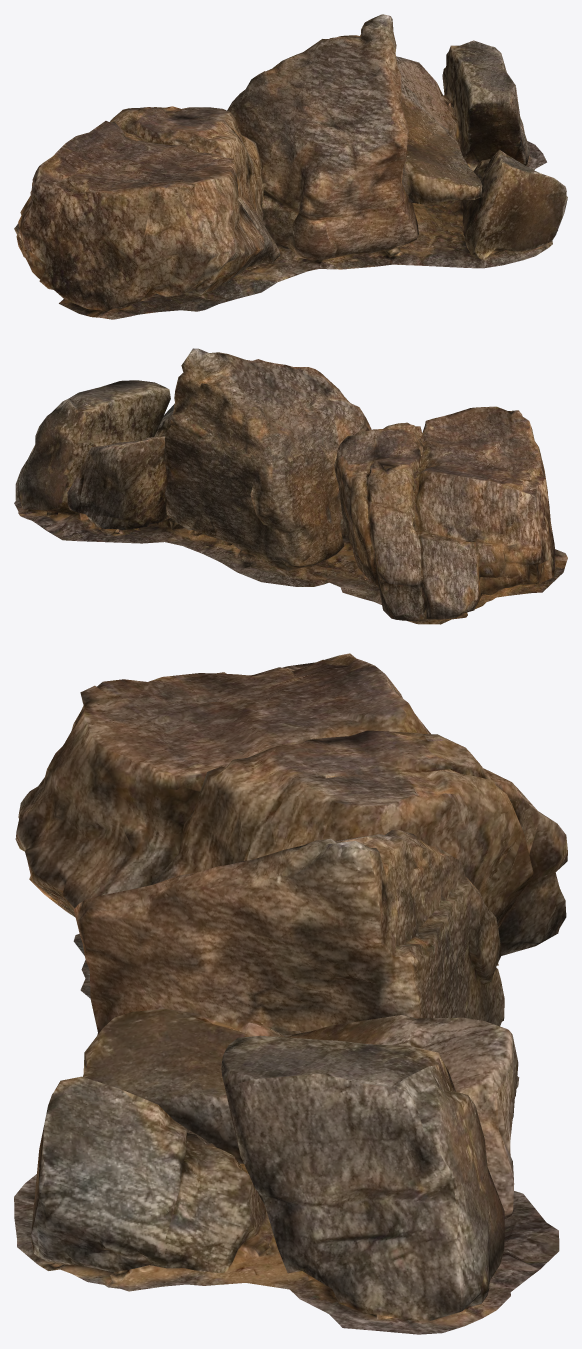
The model's file is namaqualand_boulder_02.glb.
3 renders of one model, top to bottom at view 1: azimuth 30°, elevation 25°; view 2: azimuth 150°, elevation 25°; view 3: azimuth 270°, elevation 25°, orthographic. The views are drawn at different scales.
Parts seen in each view (by area): view 1: boulder_02; view 2: boulder_02; view 3: boulder_02.
Boxes of the visible parts, x1,y1,x2,y2 form: boulder_02: (14, 14, 567, 319); boulder_02: (14, 348, 567, 624); boulder_02: (14, 653, 567, 1334).
Bounding box in the file's own units: 2.52 × 0.8802 × 1.23.
Materials: 1 (1 with a texture image).
